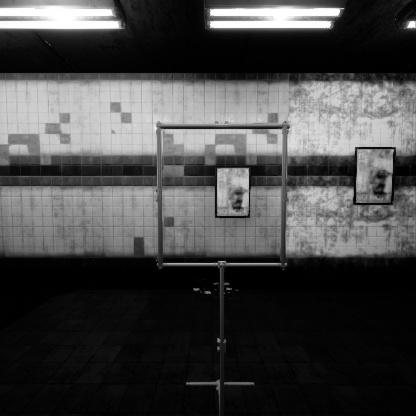gate: (157, 146, 301, 293)
